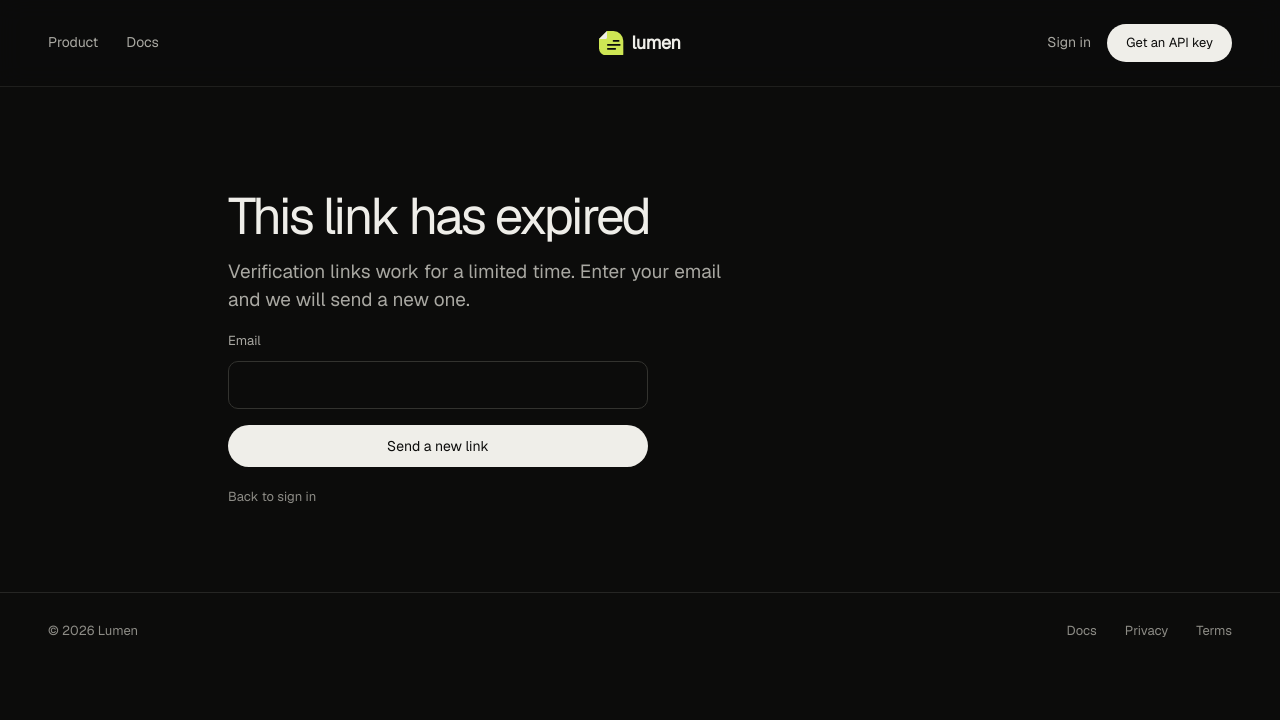
Test: VerifyEmail › an error wins over status=verified: TOKEN_EXPIRED says the link expired and offers a new one
This screenshot has width=1280, height=720.
Expected: the heading "This link has expired" is shown, [228,183,650,249]
Type "maya@campus.test" into the field labelled "Email" at (438, 385), box [228,361,648,409]
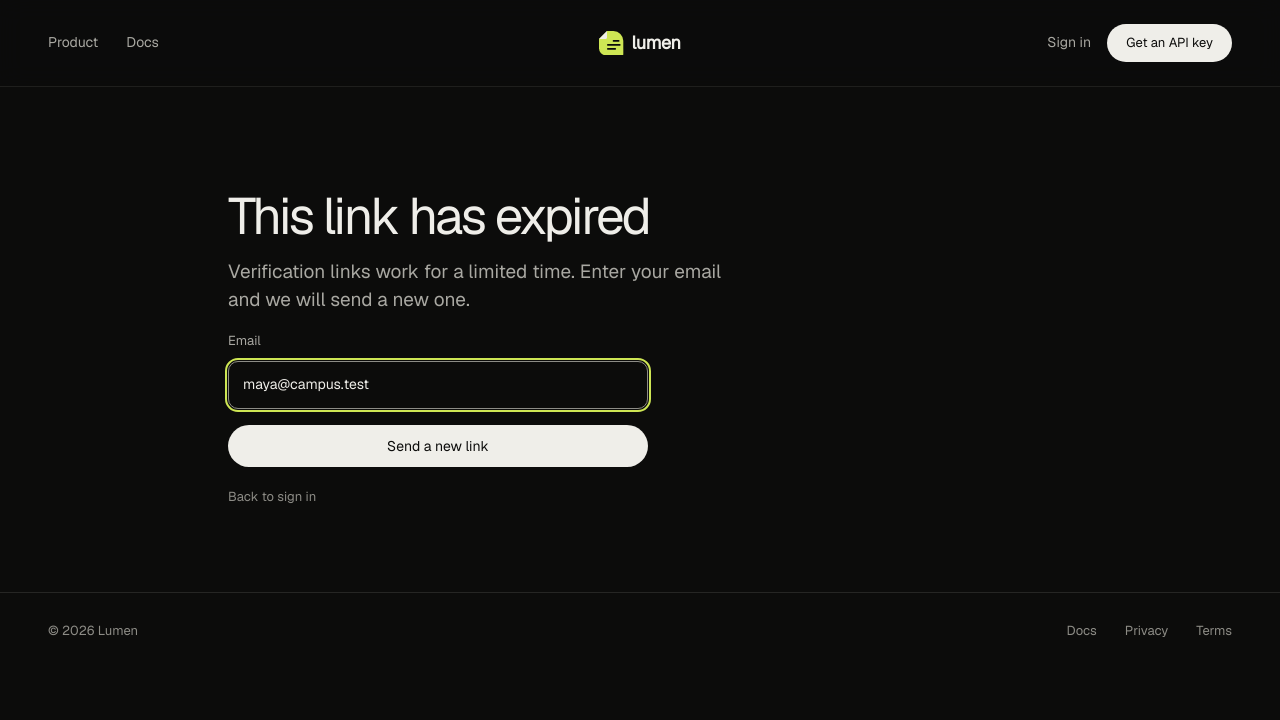
Click the button "Send a new link" at (438, 446), box [228,425,648,467]
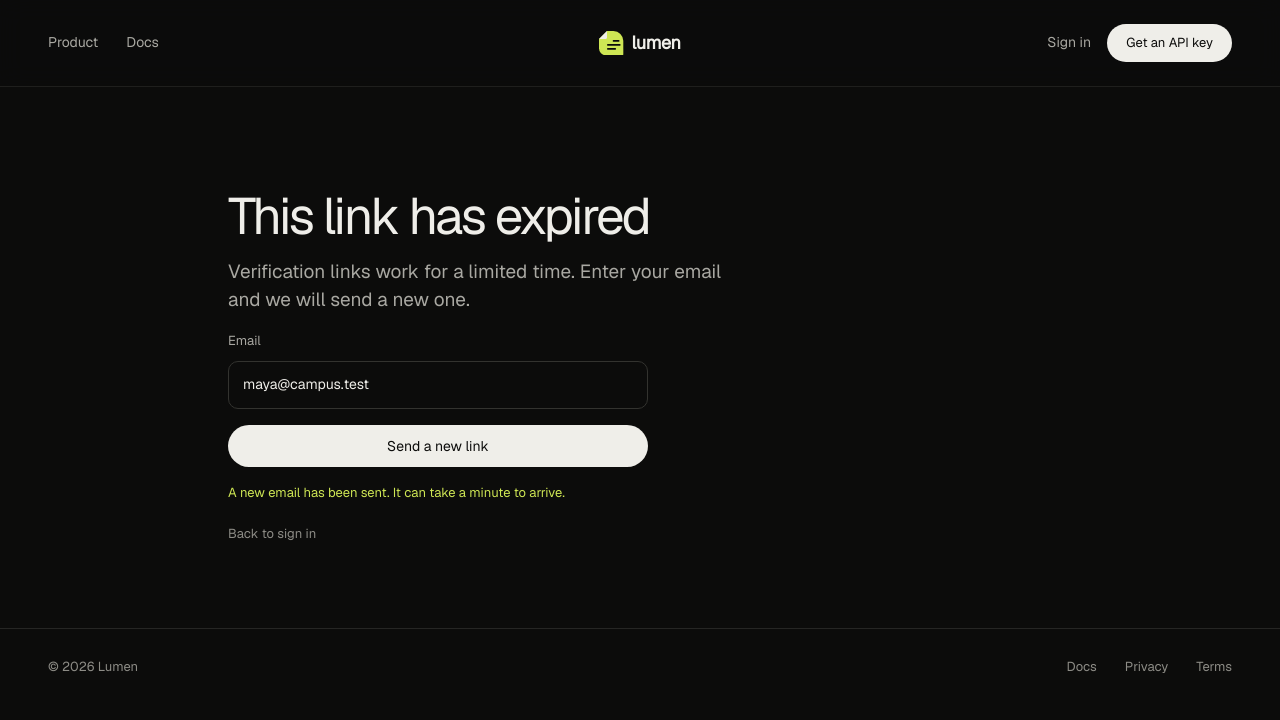
Expected: the message shows "sent", [228,484,565,501]
